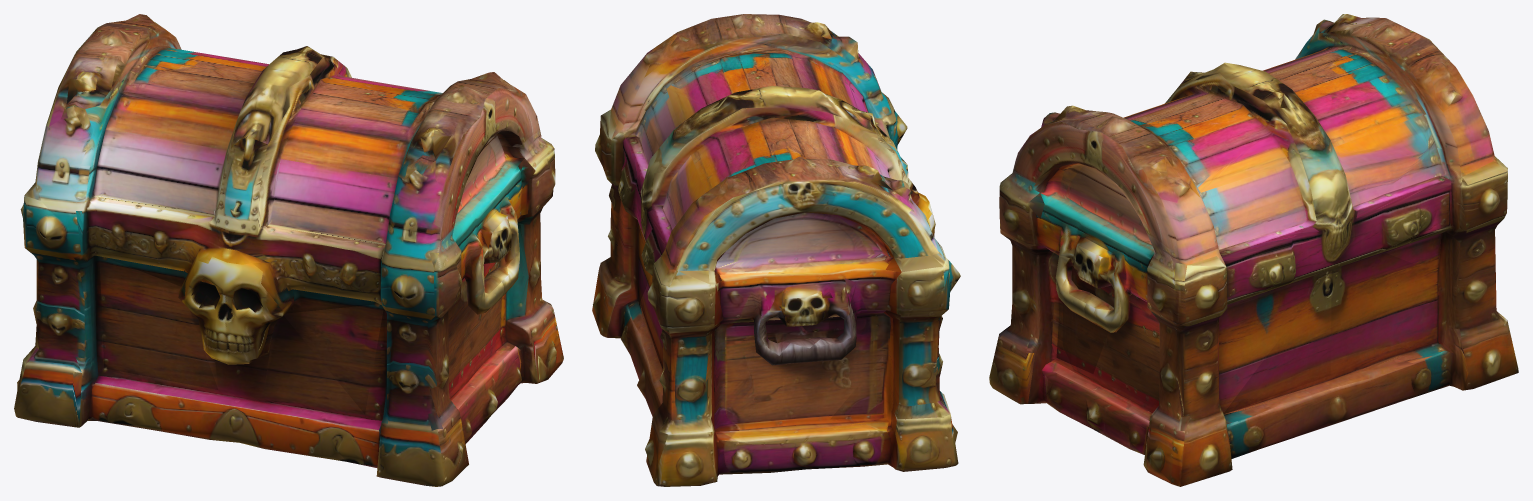
File: xp_orb.glb
3 views of the same model, side by side, from view 1: azimuth 30°, elevation 25°; view 2: azimuth 150°, elevation 25°; view 3: azimuth 270°, elevation 25° (orthographic). The views are drawn at different scales.
Parts seen in each view (by area): view 1: Mesh_0; view 2: Mesh_0; view 3: Mesh_0.
Boxes of the visible parts, left/top/right/bottom form: Mesh_0: left=14, top=14, right=563, bottom=486; Mesh_0: left=592, top=14, right=960, bottom=486; Mesh_0: left=989, top=14, right=1518, bottom=486.
Bounding box in the file's own units: 2.26 × 1.51 × 2.34.
1 material, 1 textured.
